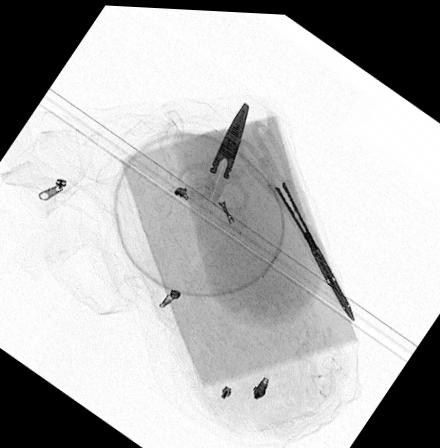Scissors: (234, 114, 354, 318), (174, 97, 249, 220)
